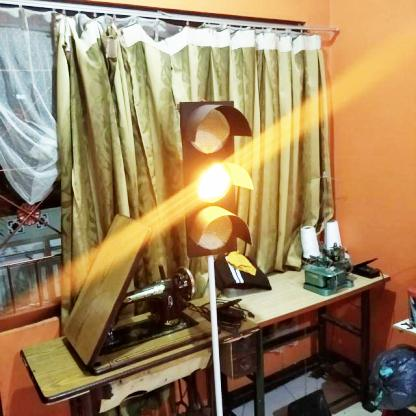Traffic Light -Yellow-: (180, 101, 252, 257)
